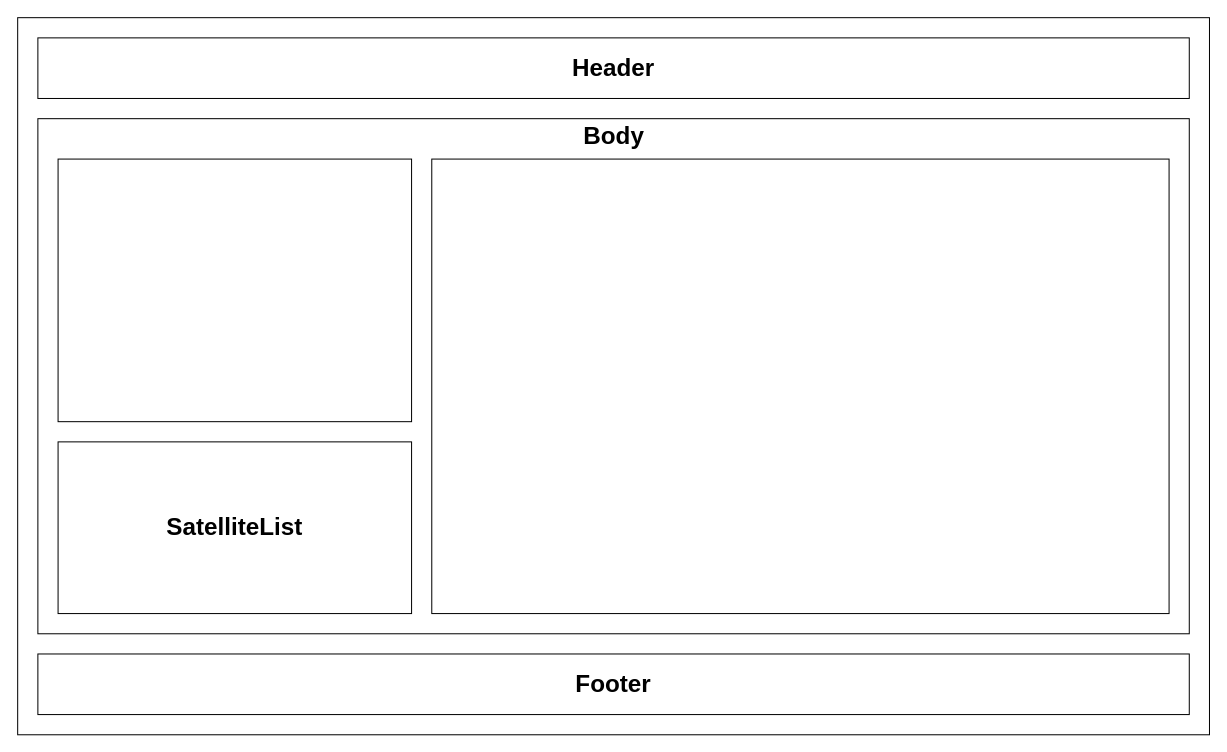
The diagram is 1227 pixels wide and 752 high, and some of its shapes have lost their labels. The centre of each missing label's shape, as x and y in pixels:
SatSetting: point (234, 290)
WorldMap: point (800, 386)
